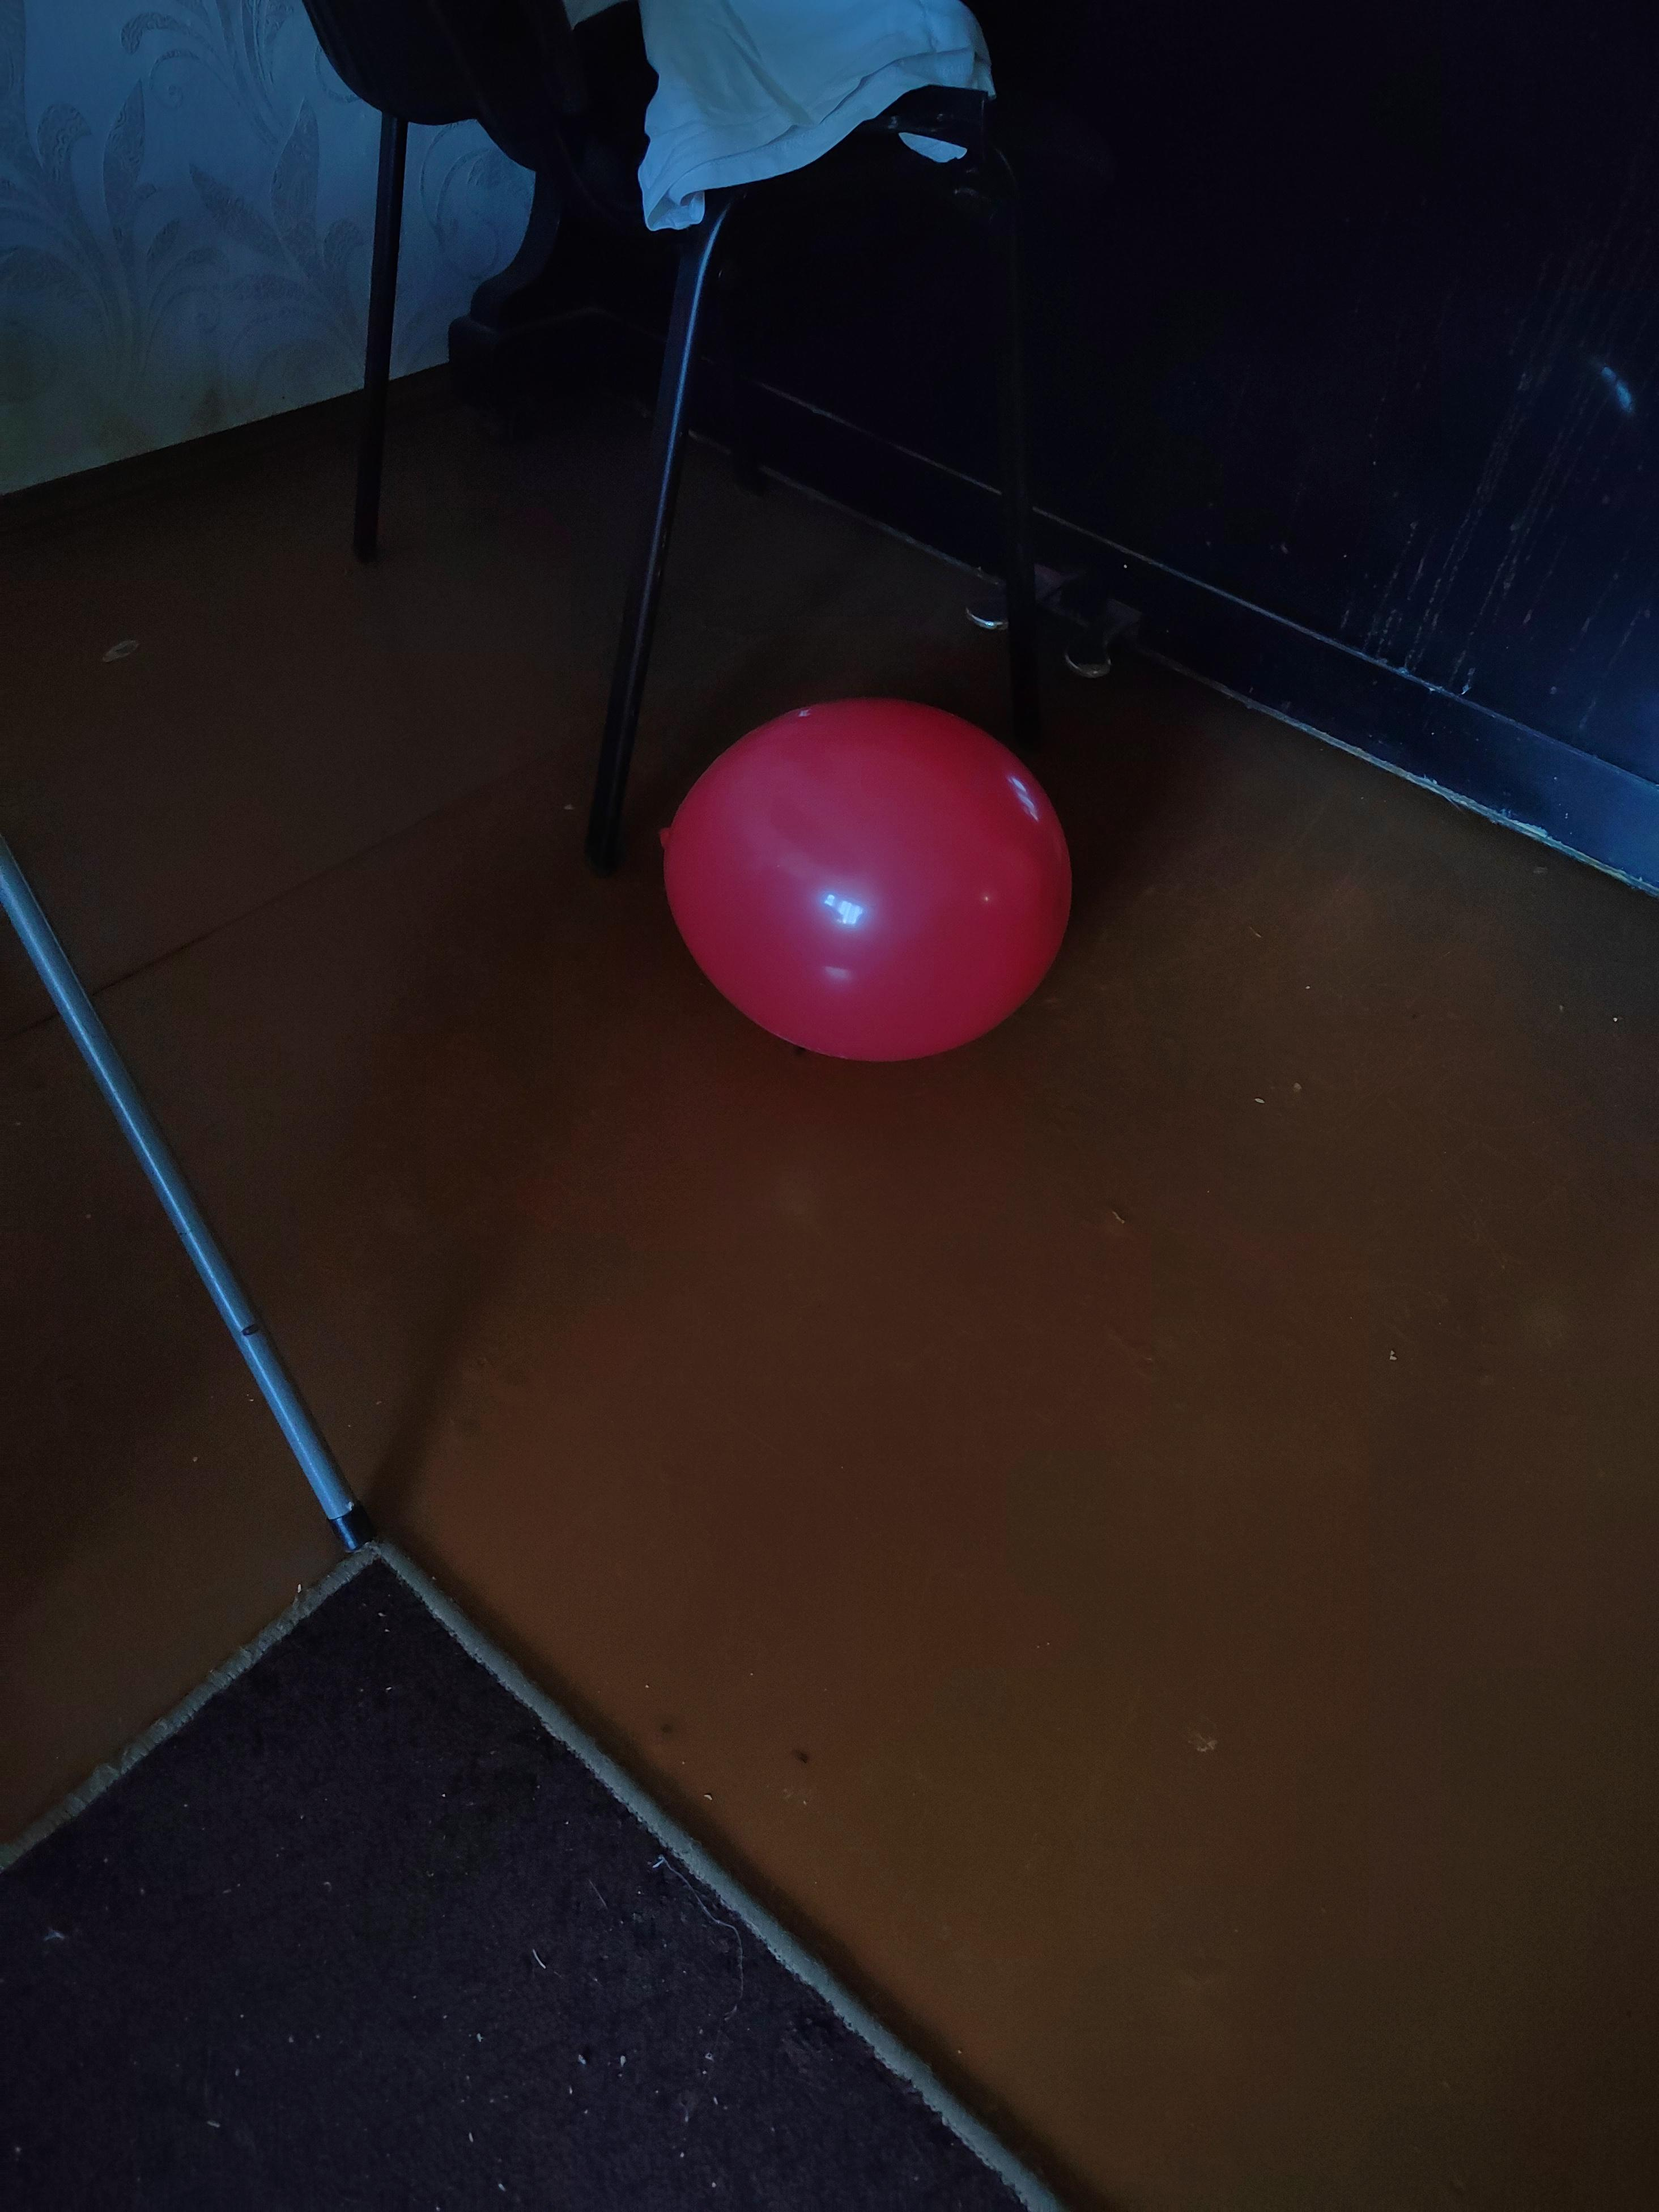red: (619, 653, 1094, 1099)
